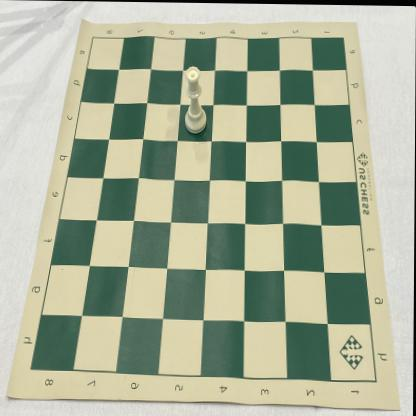white-queen: (185, 66, 207, 134)
